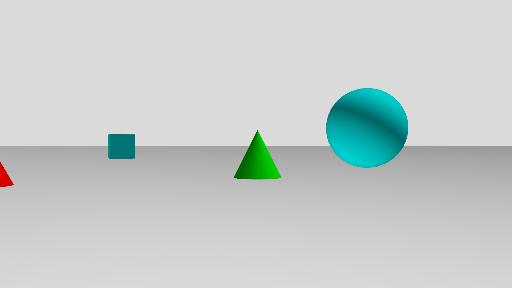green_cone: (233, 129, 282, 180)
